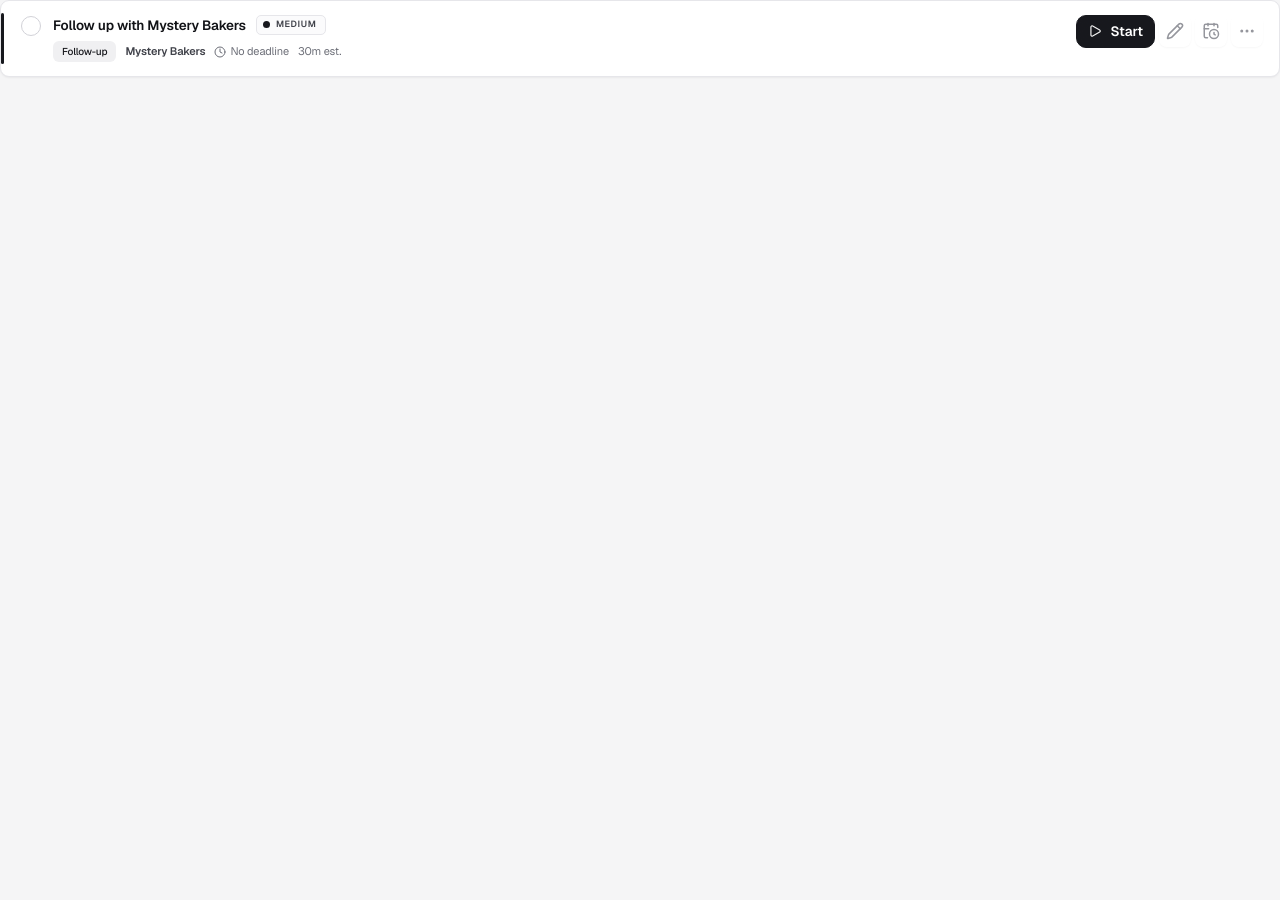
Test: task card menu › closes on Escape, on an outside press, and on the action itself
Click the button named "More actions for" at (1247, 32), box [1231,16,1263,48]
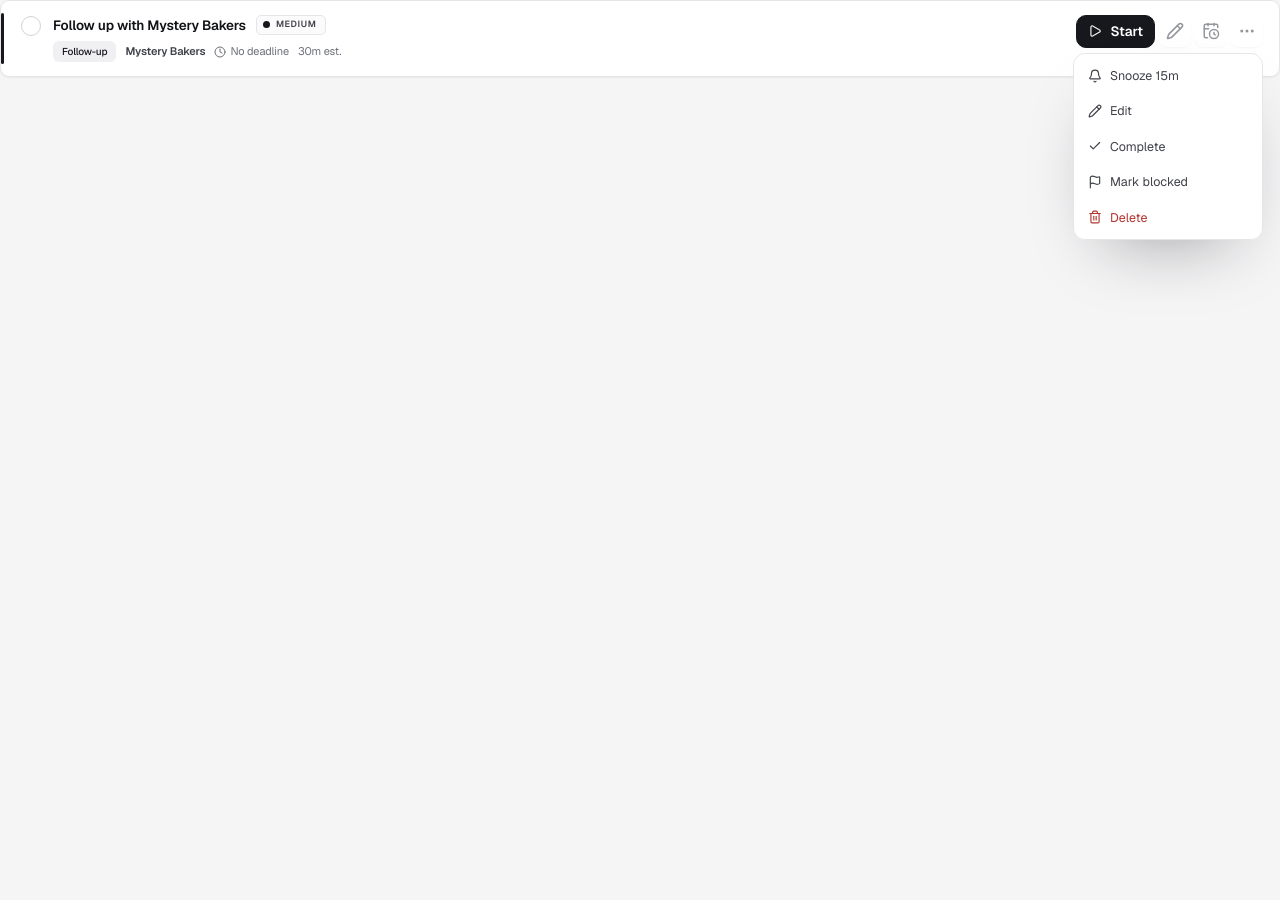
Press Escape
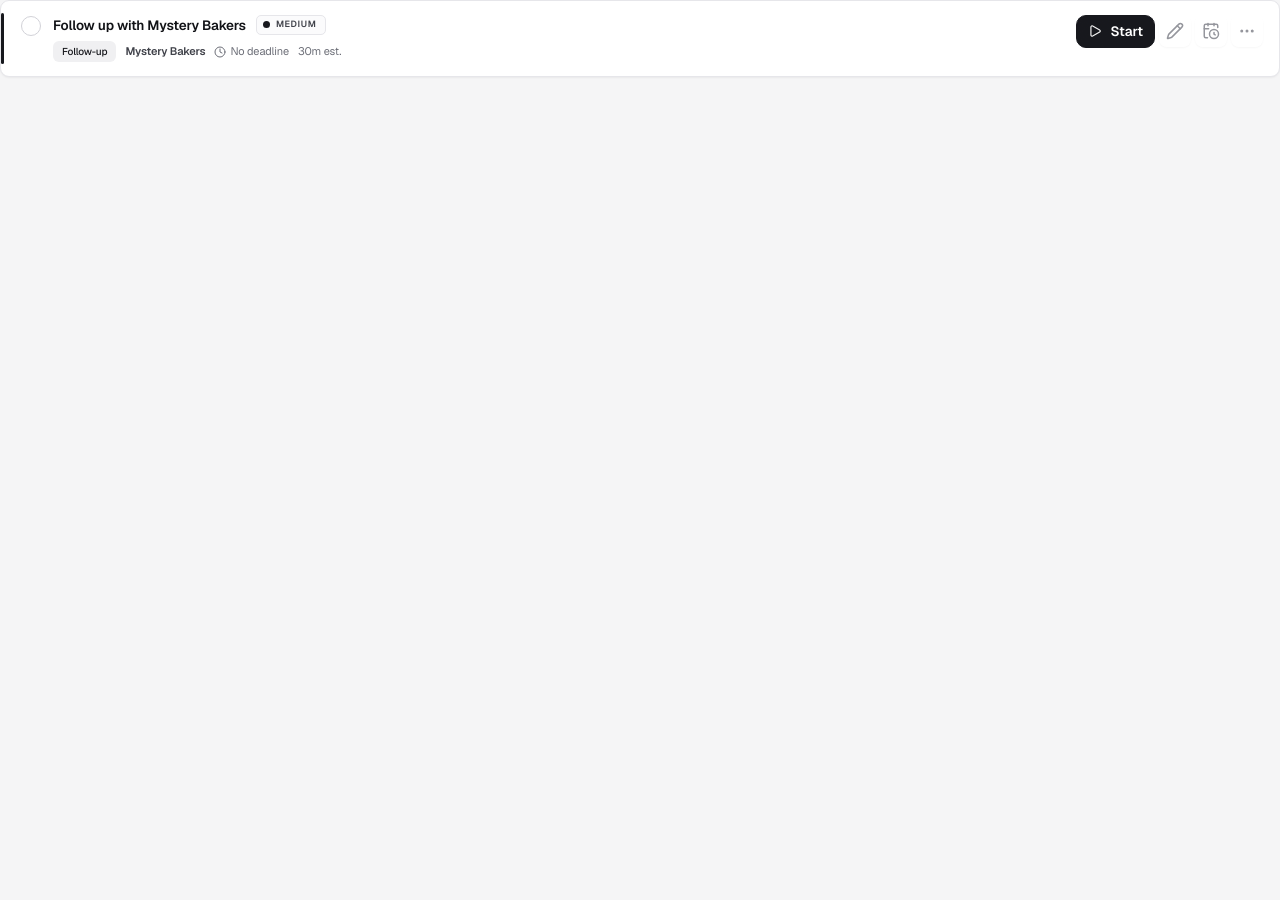
Expected: the menu with class "menu" is gone
Click the button named "More actions for" at (1247, 32), box [1231,16,1263,48]
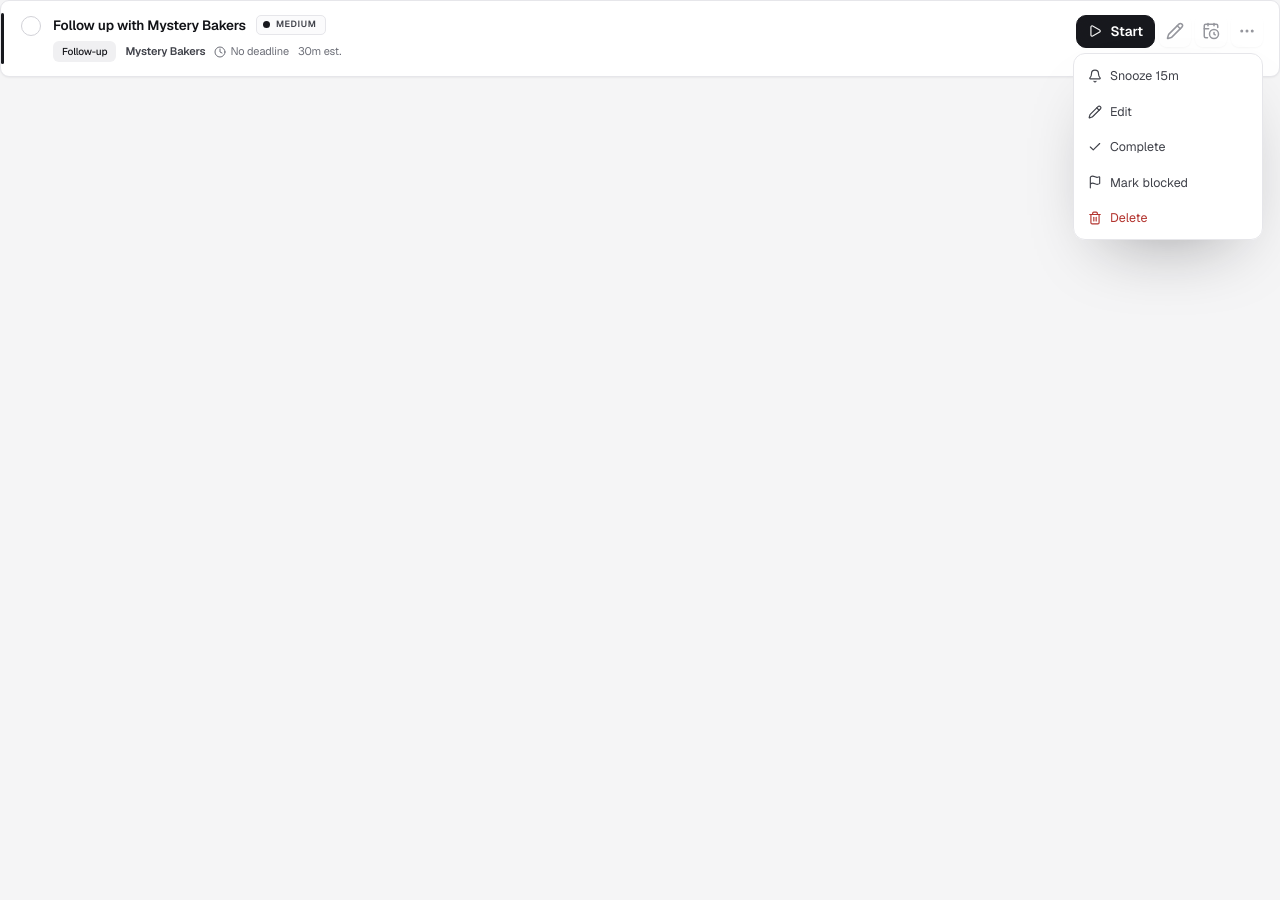
Press the mouse on the element that starts with "Follow up with Mystery Bakers" at (640, 450), box [0,0,1279,899]
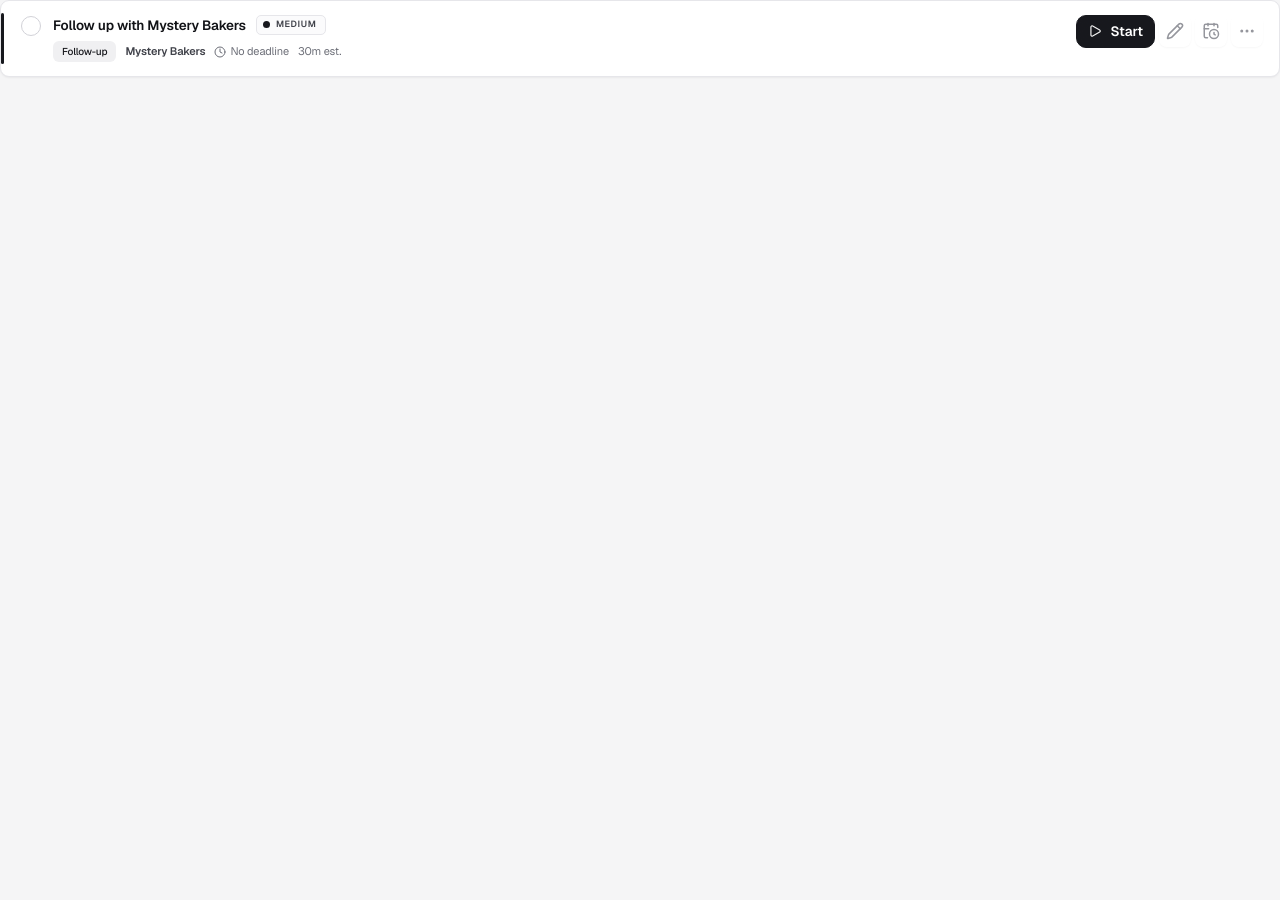
Expected: the menu with class "menu" is gone
Click the button named "More actions for" at (1247, 32), box [1231,16,1263,48]
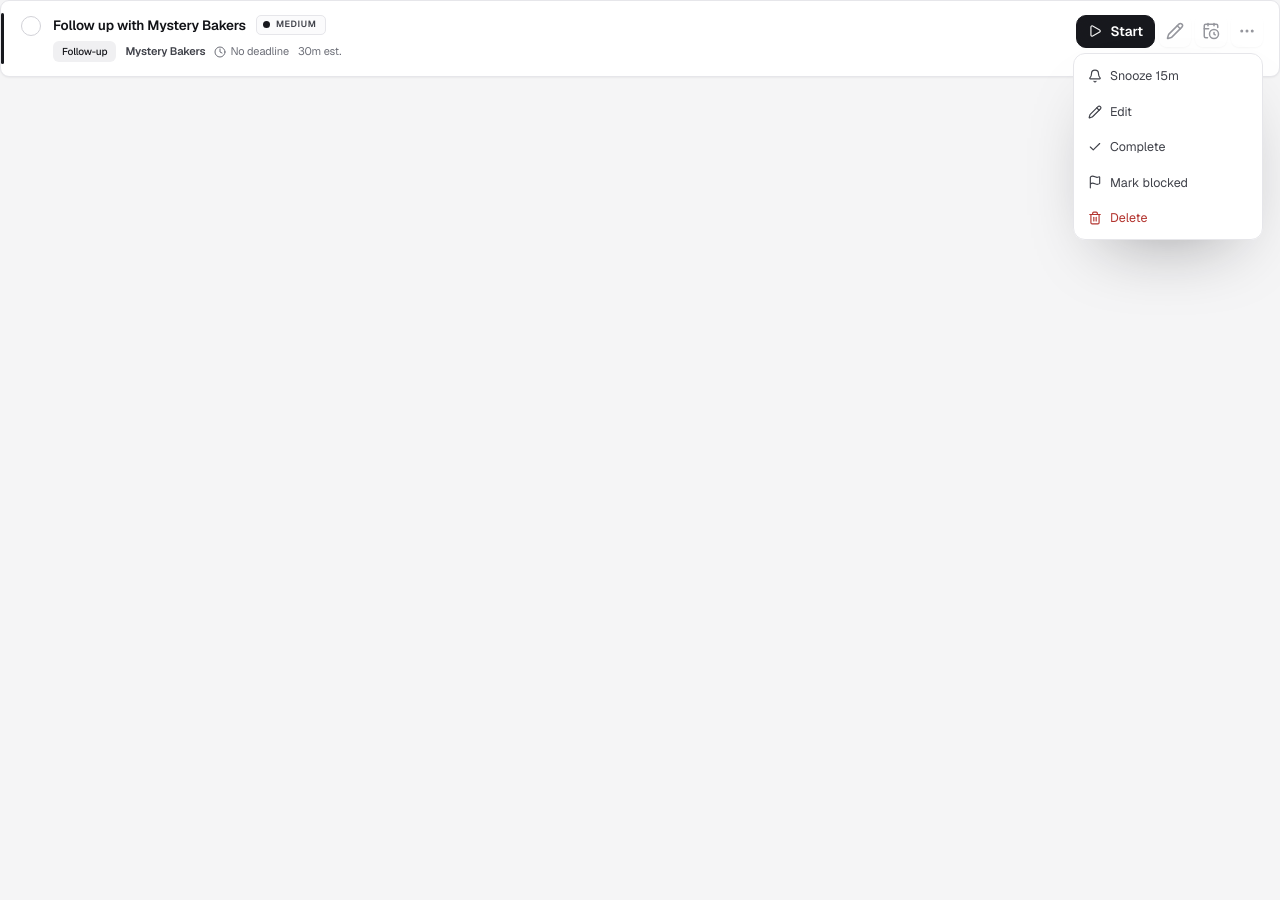
Click the menu item "Delete" at (1168, 218), box [1079,201,1257,234]
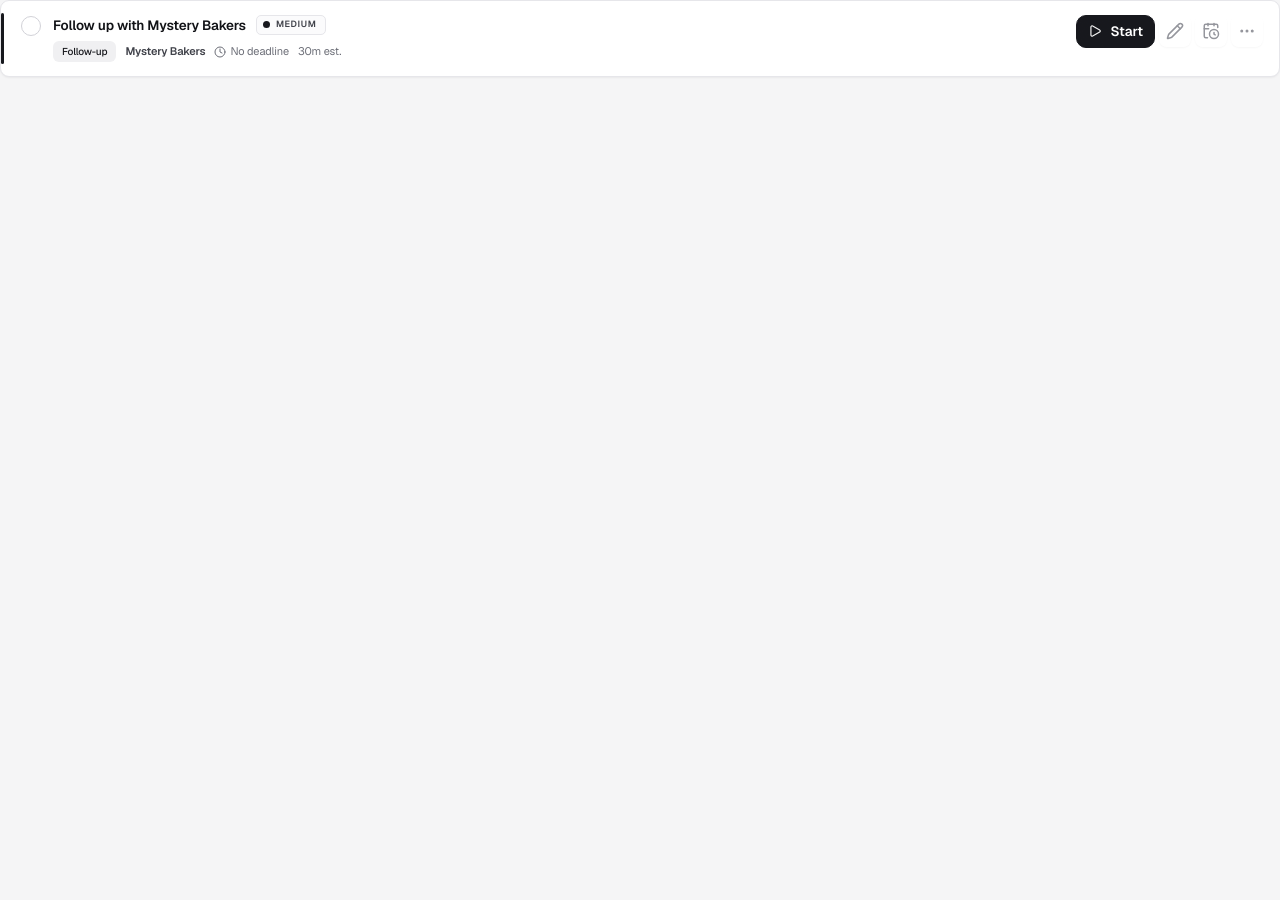
Expected: the menu with class "menu" is gone
